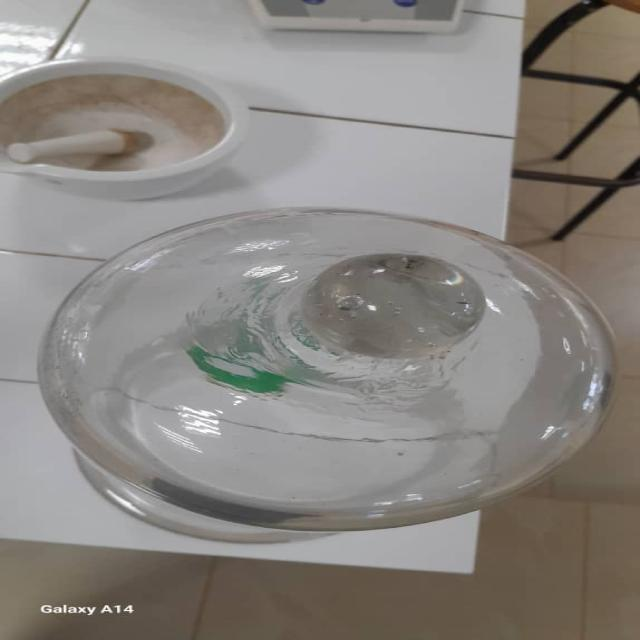Gas Bottle: (34, 212, 606, 552)
